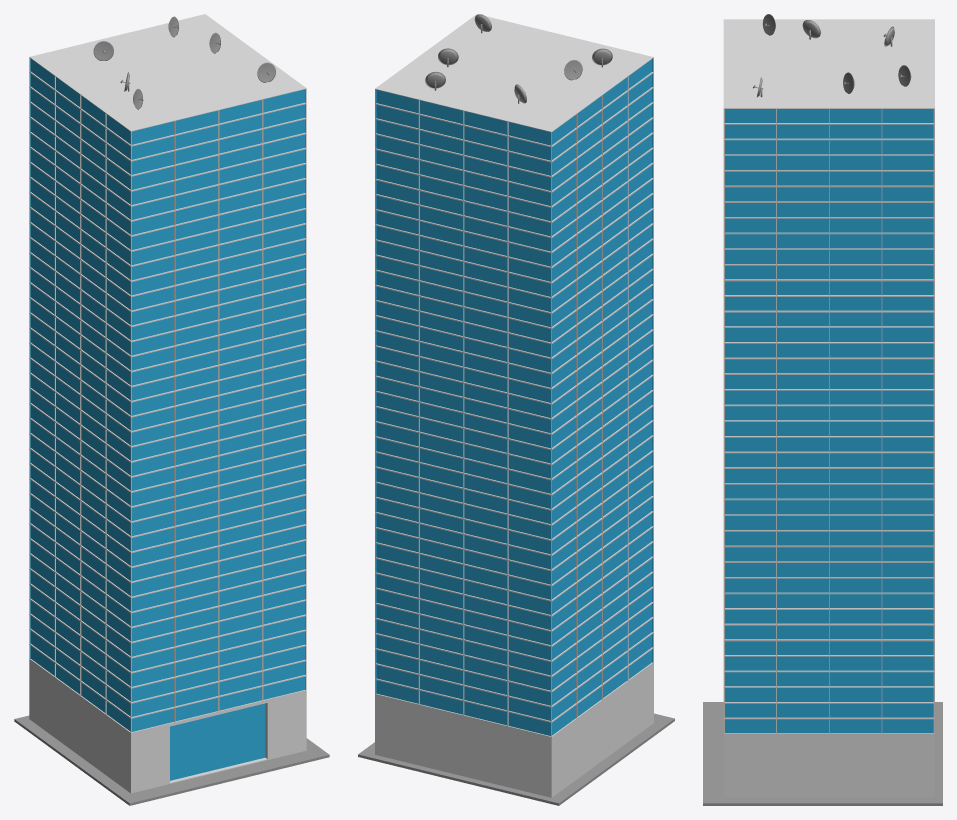
Rendered from casa_1.glb.
3 renders of one model, left to right at view 1: azimuth 30°, elevation 25°; view 2: azimuth 150°, elevation 25°; view 3: azimuth 270°, elevation 25°, orthographic. The views are drawn at different scales.
Visible parts, largest first — view 1: Edificio_2; view 2: Edificio_2; view 3: Edificio_2.
Boxes of the visible parts, box(x1,y1,x2,y2) form: Edificio_2: box(14, 14, 329, 805); Edificio_2: box(358, 14, 674, 805); Edificio_2: box(703, 14, 942, 805).
Size of the model in its own units: 6.84 by 22.35 by 6.84.
